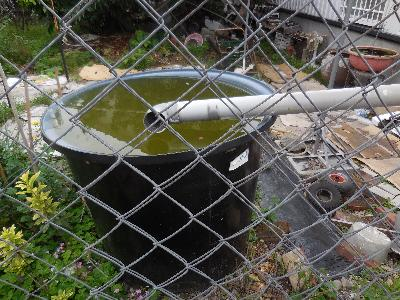bowl: (348, 44, 400, 74)
bucket: (37, 65, 279, 281)
tire: (318, 166, 358, 196), (305, 179, 340, 213)
